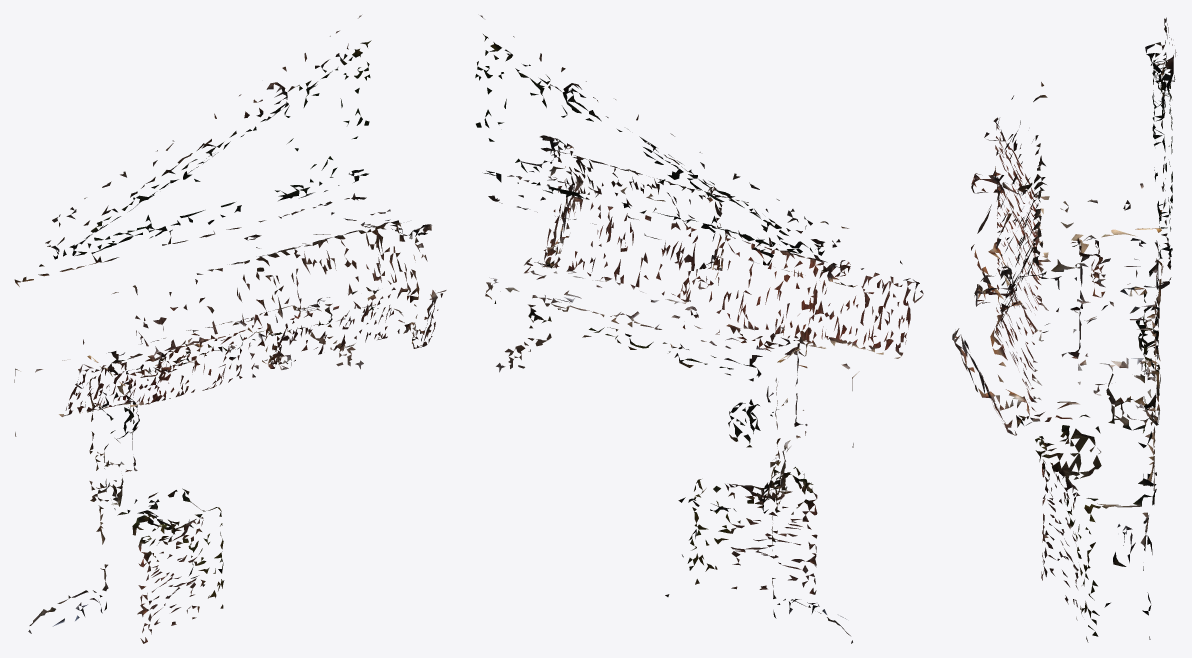
3 views of the same model, side by side, from view 1: azimuth 30°, elevation 25°; view 2: azimuth 150°, elevation 25°; view 3: azimuth 270°, elevation 25° (orthographic). The views are drawn at different scales.
Bounding box in the file's own units: 25.25 × 35.38 × 10.31.
Materials: 1 (1 with a texture image).
